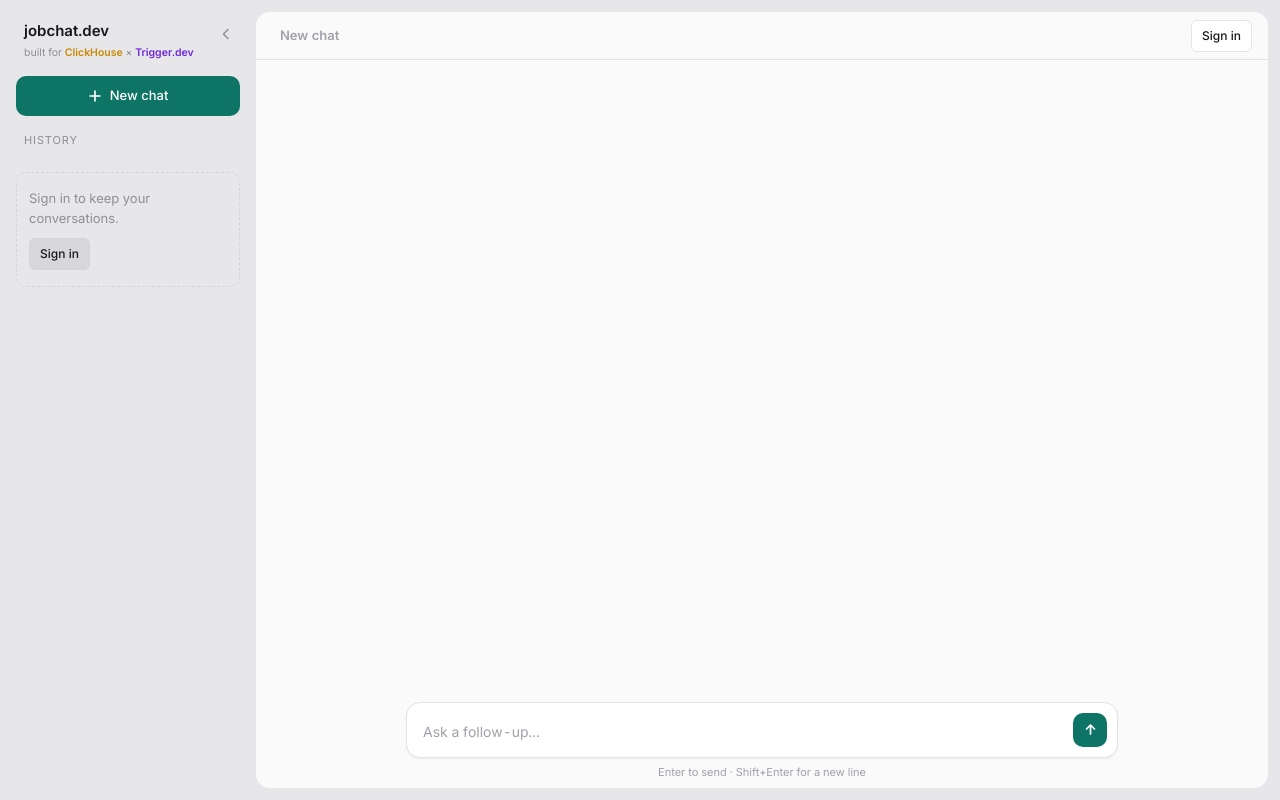
Test case: auth dialog open (AC-10) › Should_NotAutoOpen_ButOpenOnNextSend_When_GuestCapHit
In the text box labelled "Ask a follow-up": [743, 731] box [423, 716, 1063, 746], type "One more question"
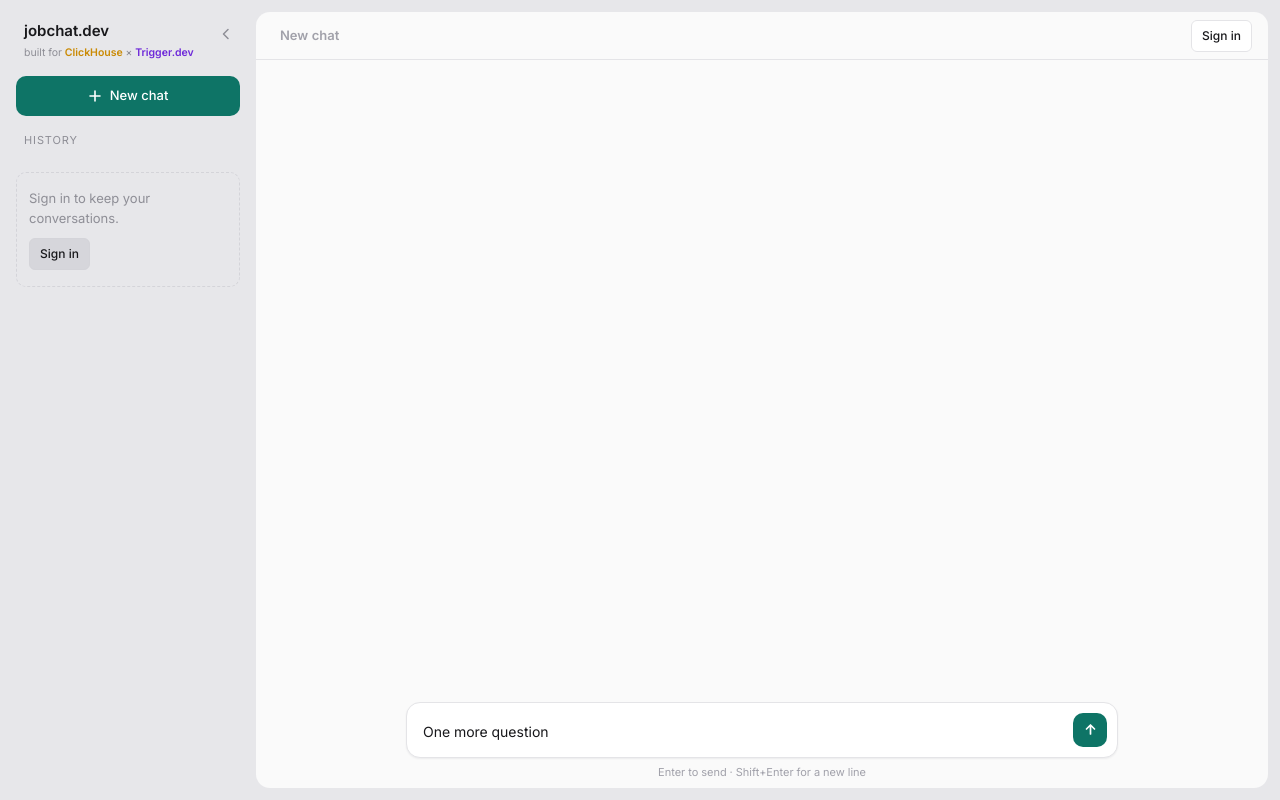
Press Enter in the text box named "Ask a follow-up", box [423, 716, 1063, 746]
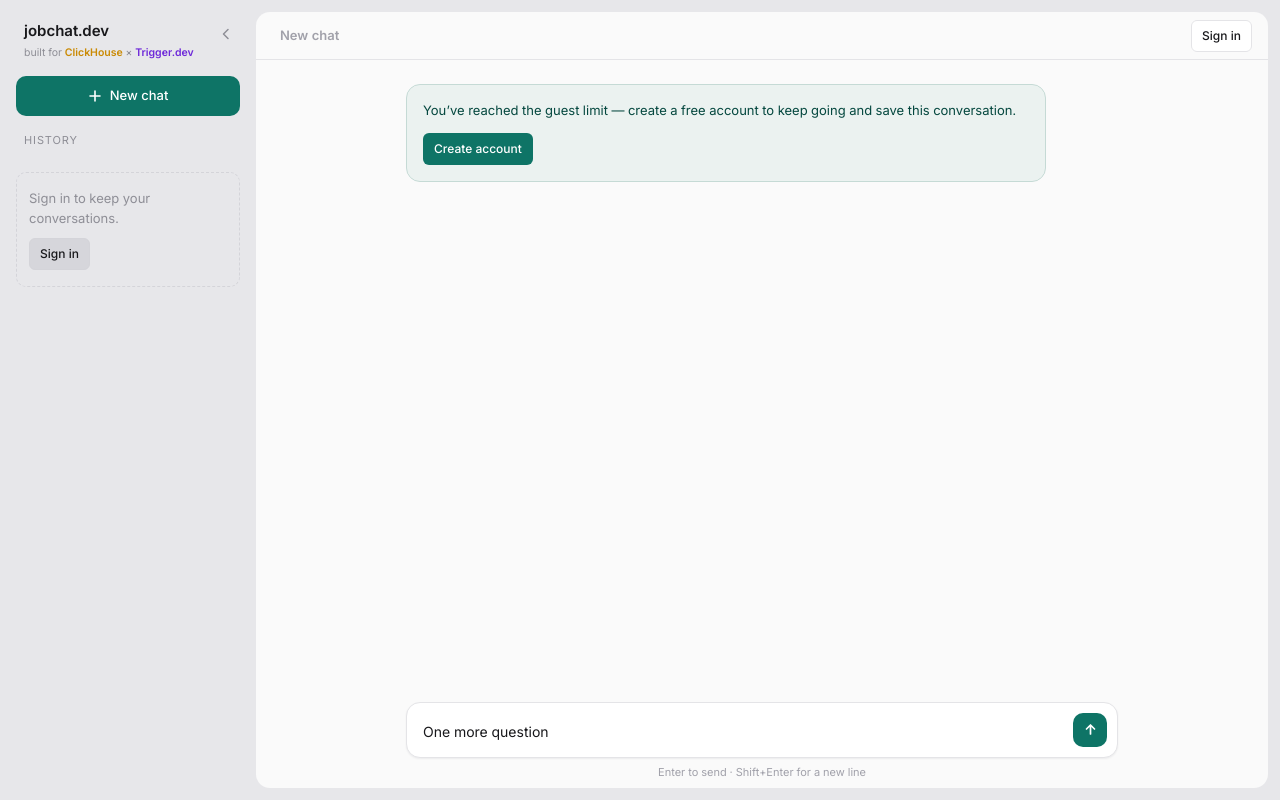
Expected: the text "reached the guest limit" is shown, [423, 102, 1016, 118]
Note: a send while capped opens the dialog (with the draft queued)
Press Enter in the text box named "Ask a follow-up", box [423, 716, 1063, 746]
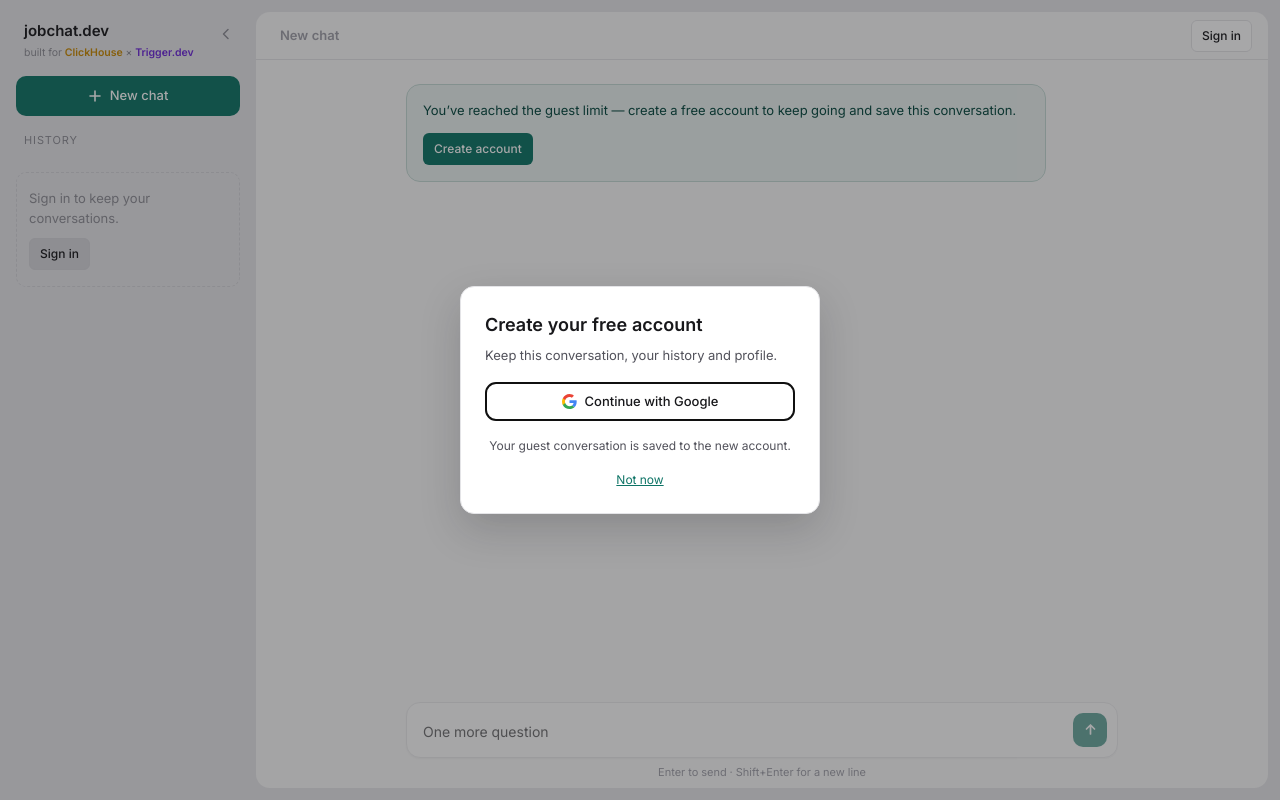
Expected: the dialog "Create your free account" is shown, [460, 286, 820, 514]
